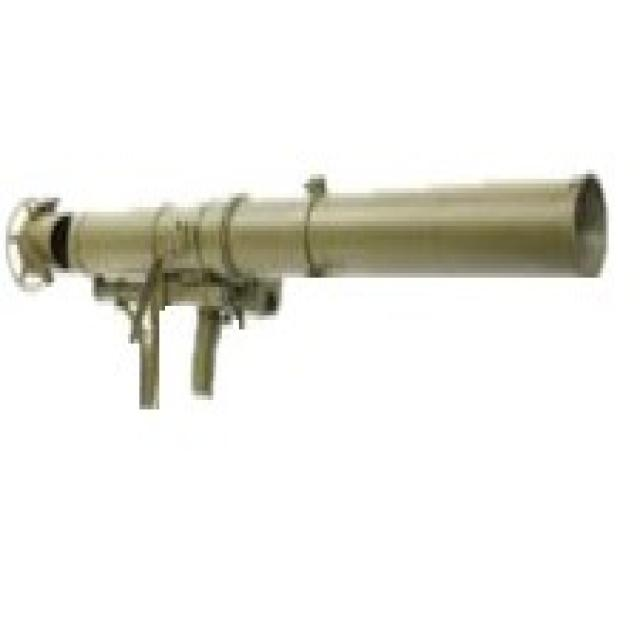bazooka: (1, 172, 613, 422)
